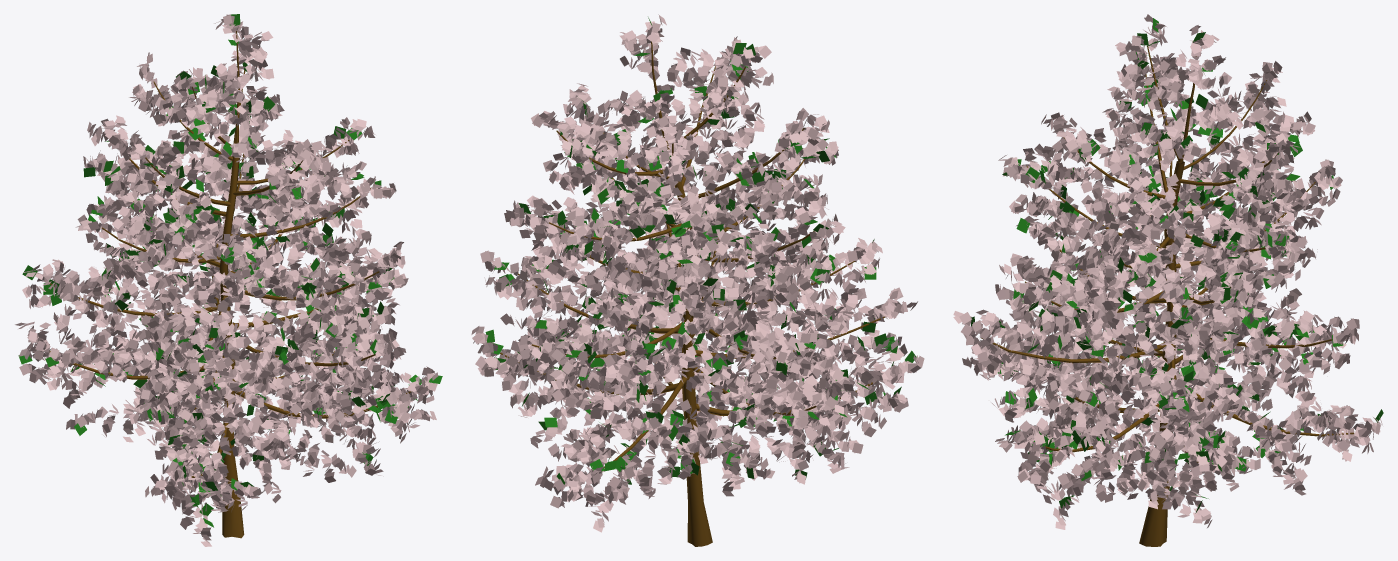
File: Cerisier.FBX
The picture shows the model from 3 angles, left to right: view 1: azimuth 30°, elevation 25°; view 2: azimuth 150°, elevation 25°; view 3: azimuth 270°, elevation 25°; orthographic projection. The views are drawn at different scales.
Parts seen in each view (by area): view 1: Foliage004; view 2: Foliage004; view 3: Foliage004.
Boxes of the visible parts, <box> form: Foliage004: <box>15,14,442,546</box>; Foliage004: <box>471,14,924,546</box>; Foliage004: <box>953,14,1383,546</box>.
Bounding box in the file's own units: 243 × 319 × 236.
